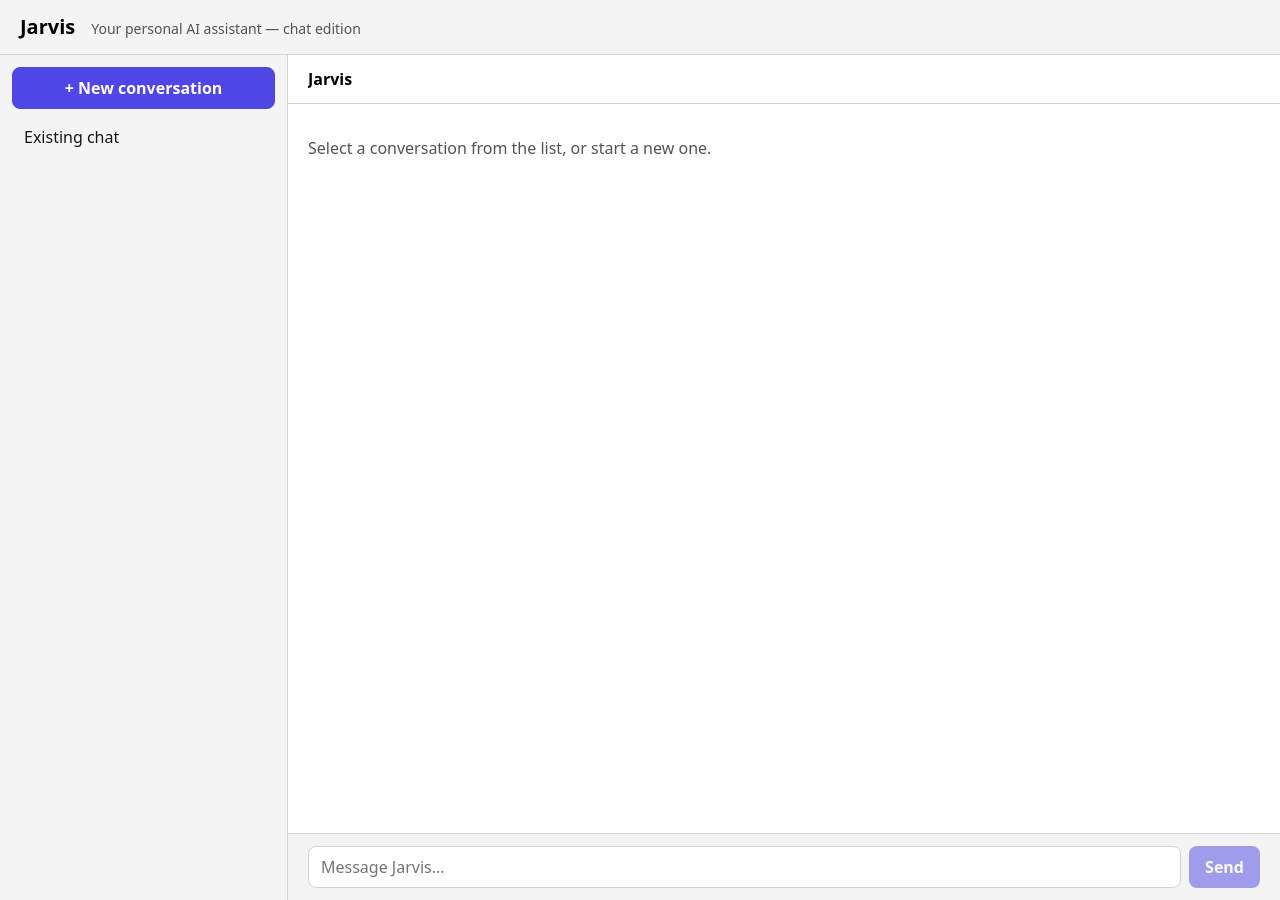
Scenario: sending messages › clears the draft and keeps the transcript when the send persists but refreshes fail
Step 1. Click the button "Existing chat" → (72, 137), box [12, 117, 275, 157]
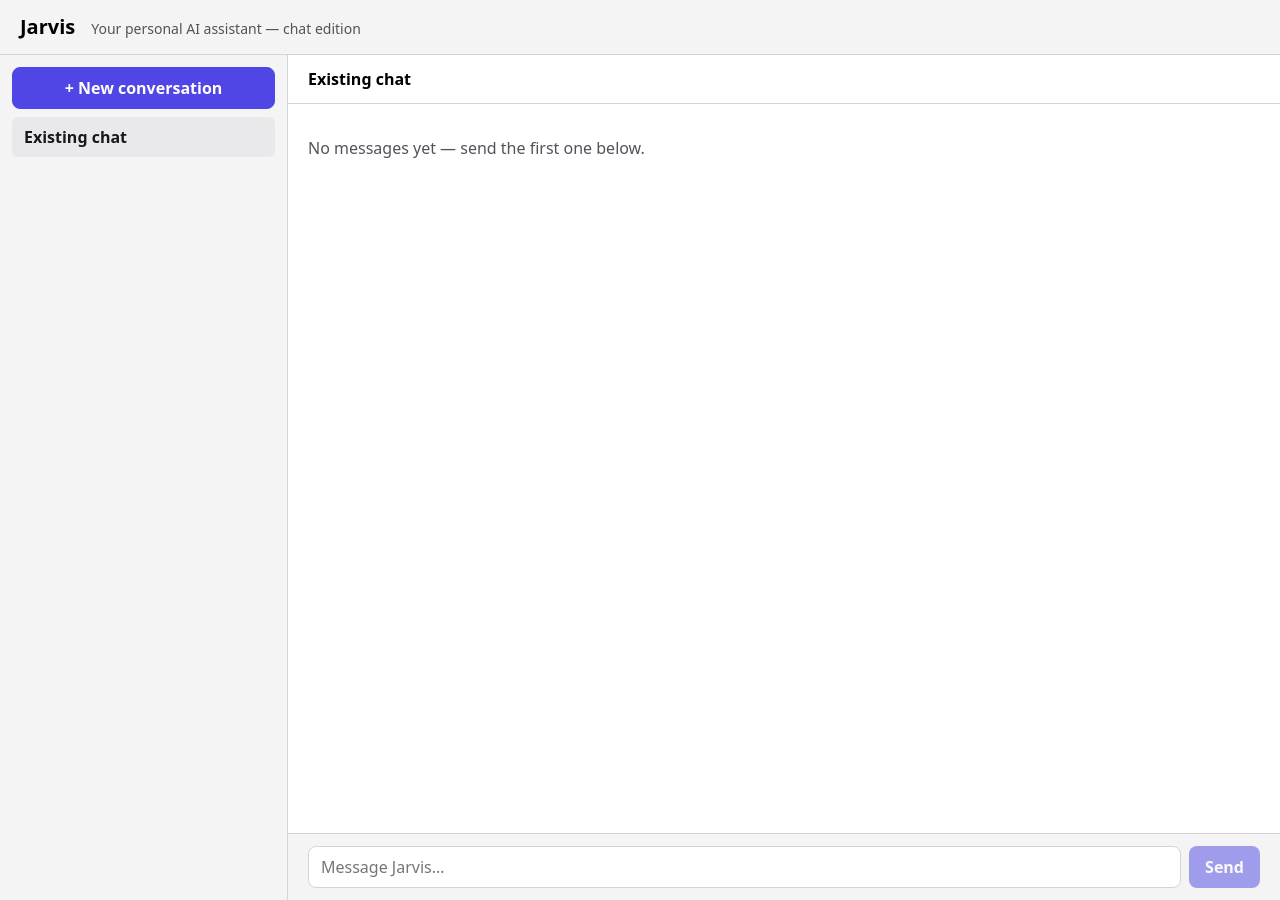
Check: the text "No messages yet — send the first one below." is shown, box [308, 137, 645, 159]
Step 2. Type "persisted turn" into the text box labelled "Message Jarvis" → (745, 867), box [308, 846, 1181, 888]
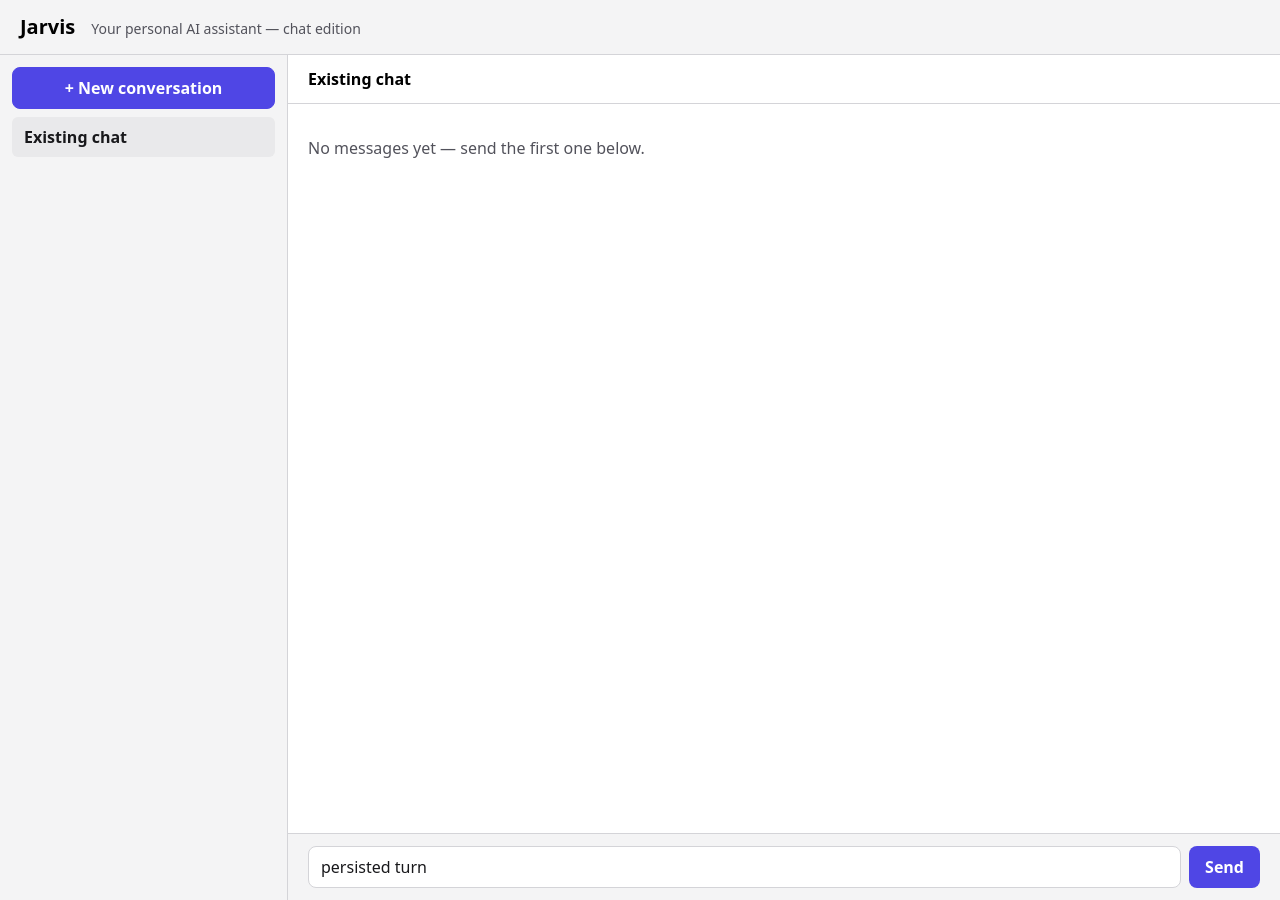
Step 3. Click the button "Send" → (1225, 867), box [1189, 846, 1260, 888]
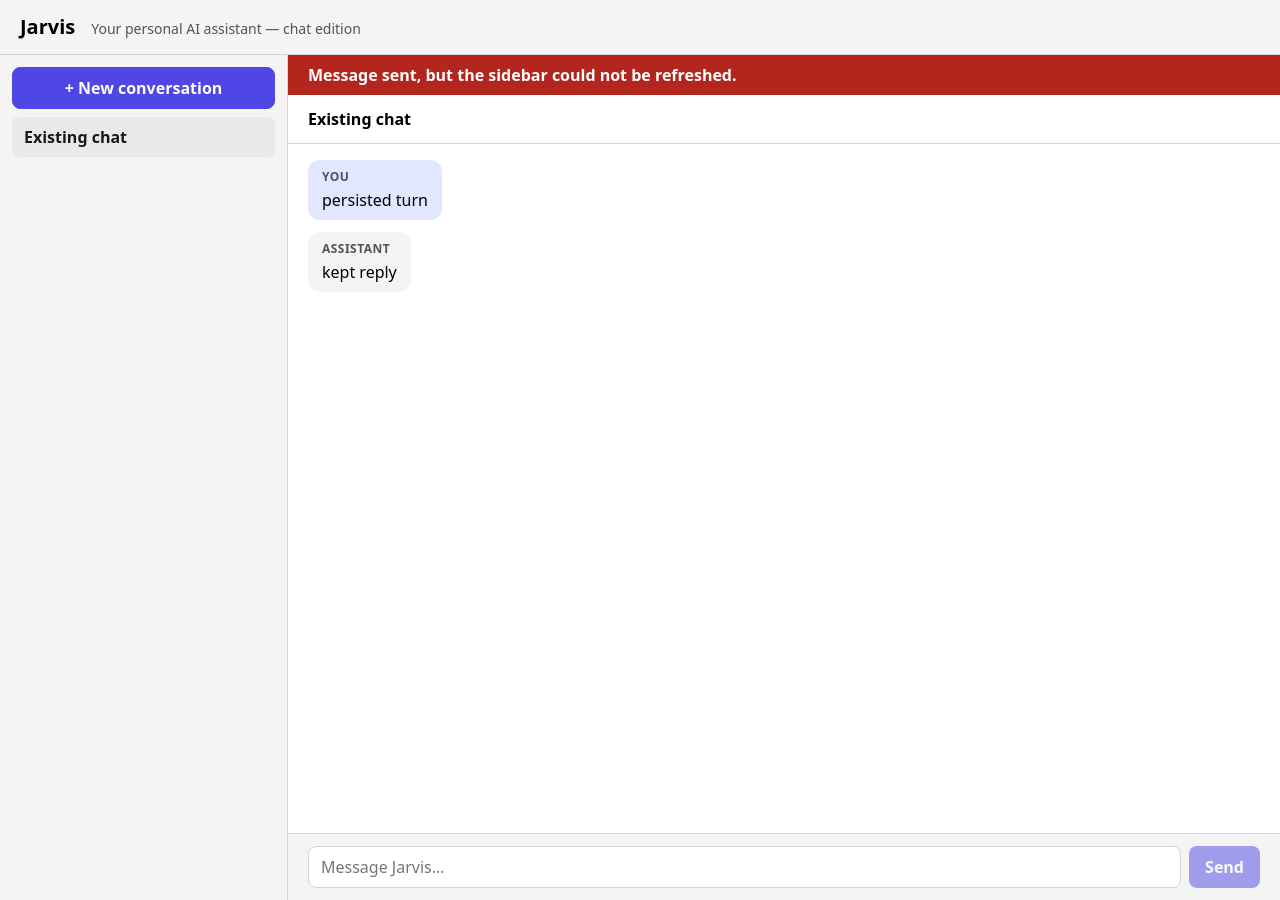
Check: the text "Message sent, but the sidebar could not be refreshed." is shown, box [288, 55, 1279, 95]
Check: the text box labelled "Message Jarvis" is empty, box [308, 846, 1181, 888]
Check: the text "persisted turn" is shown, box [322, 188, 428, 212]
